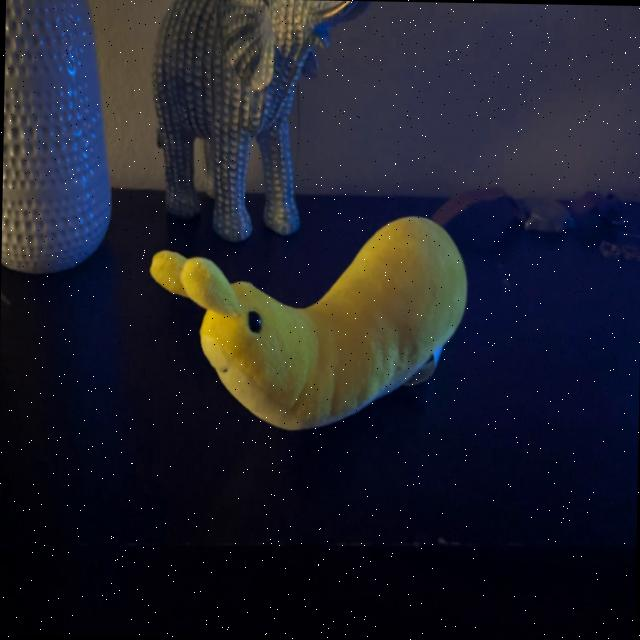banana-slug-toy: (131, 179, 480, 457)
